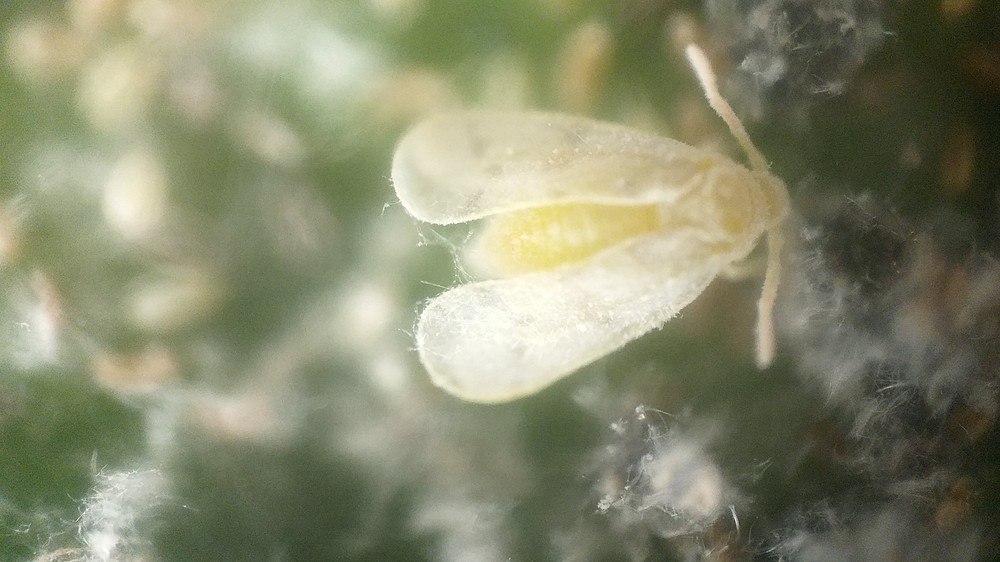Mosca Blanca: (364, 32, 828, 449)
